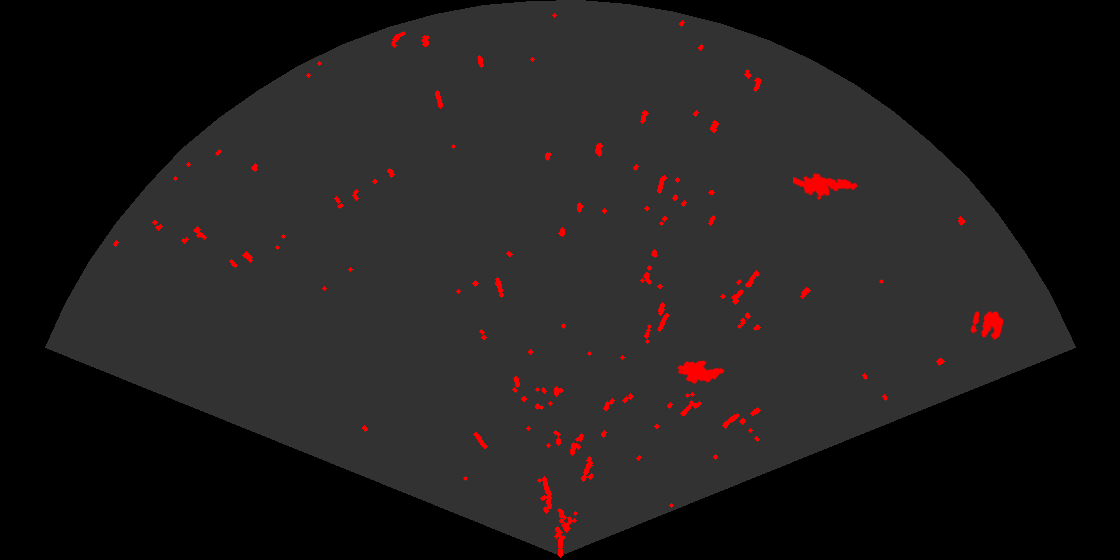AUV: (676, 359, 726, 385)
ball: (969, 309, 1005, 341)
frogman: (793, 172, 860, 202)
